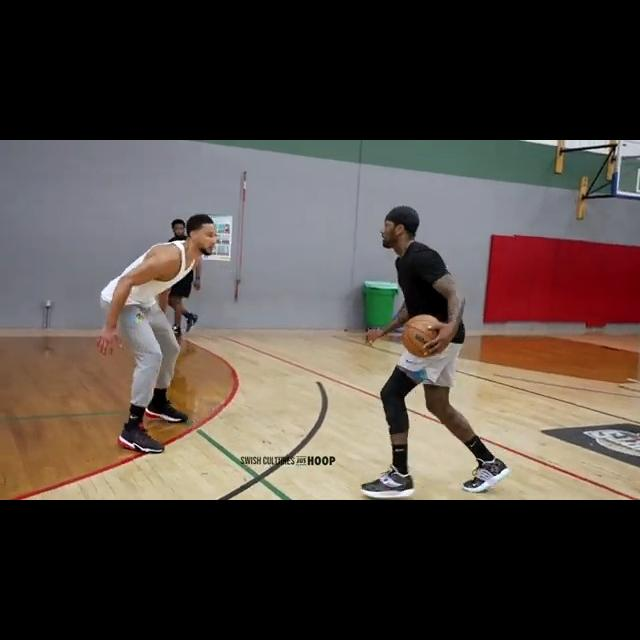basketball: (401, 314, 442, 359)
